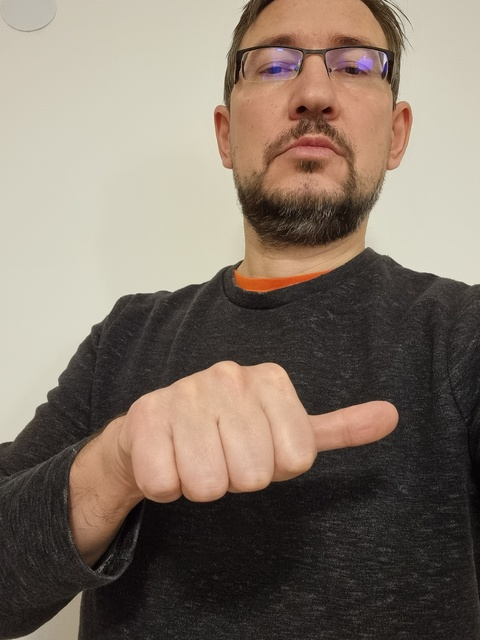GestBack: (133, 361, 397, 502)
